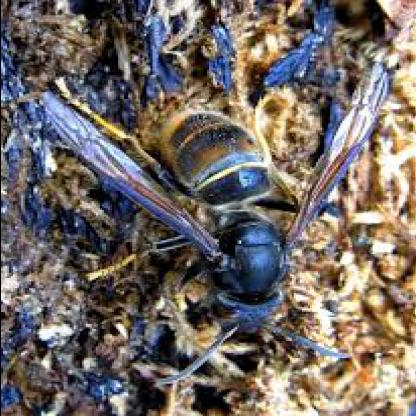asian: (20, 54, 390, 382)
